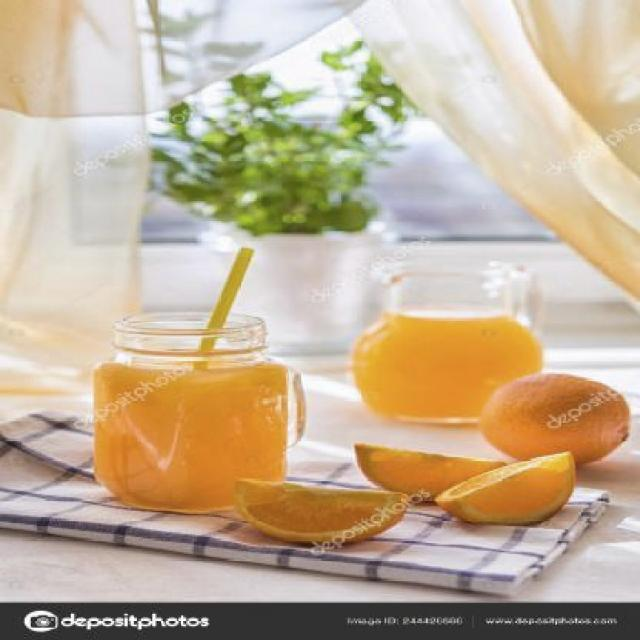Jeruk Sudah Matang: (478, 372, 631, 466)
